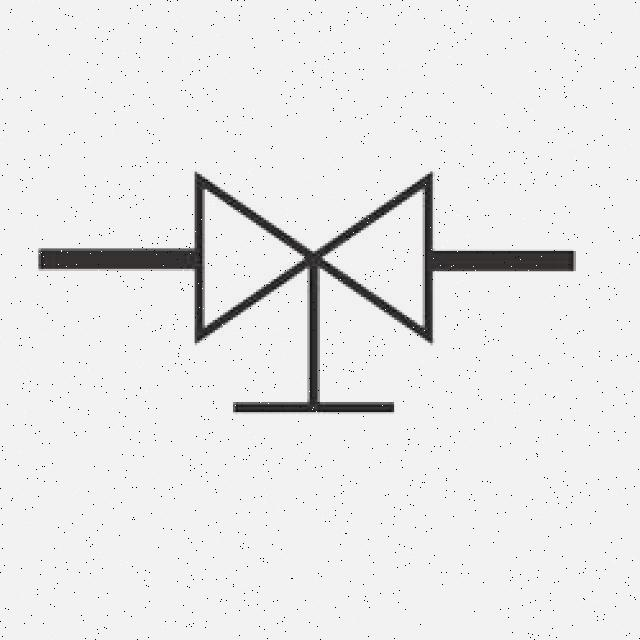Hand Operated Gate Valve: (148, 146, 486, 466)
